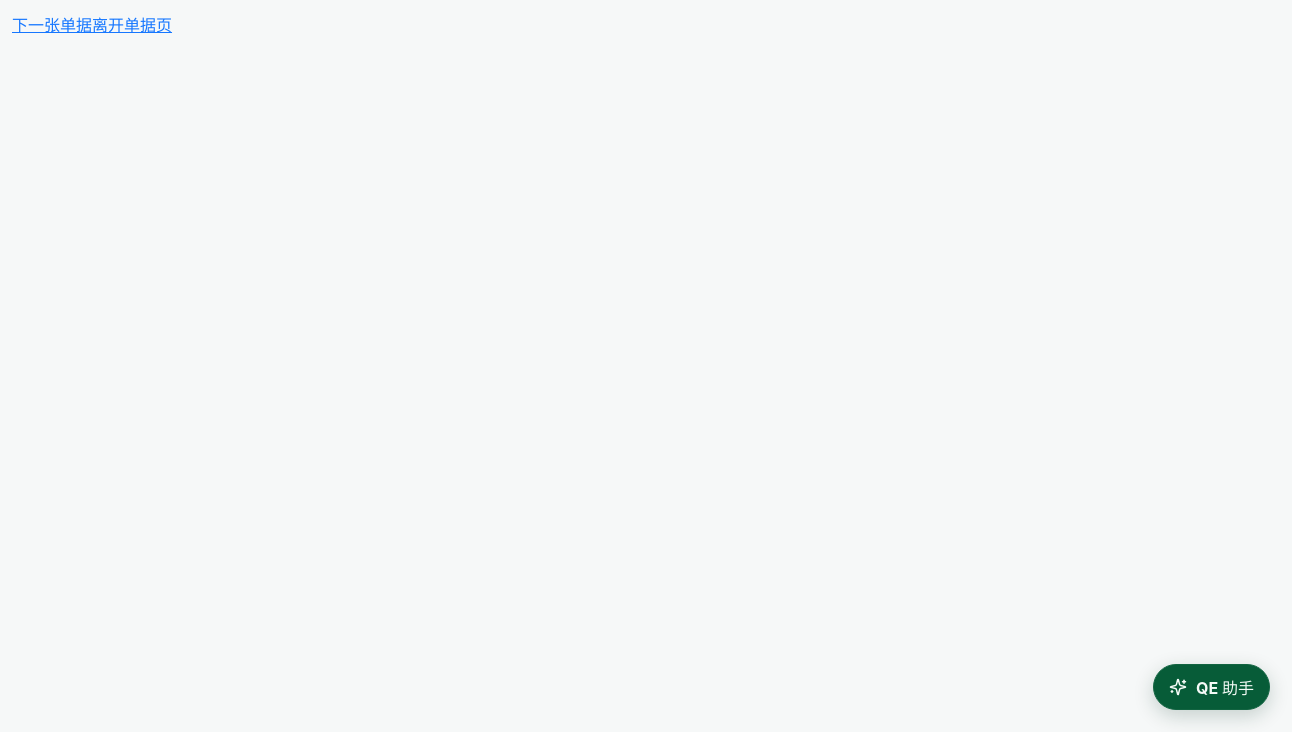
Scenario: QE 助手 › gives the model citable facts from the active detail page on first turn, reload and navigation
Later steps or results of the test are not shown.
Step 1. Click the button "QE 助手" → coordinates (1212, 687), box [1153,664,1270,710]
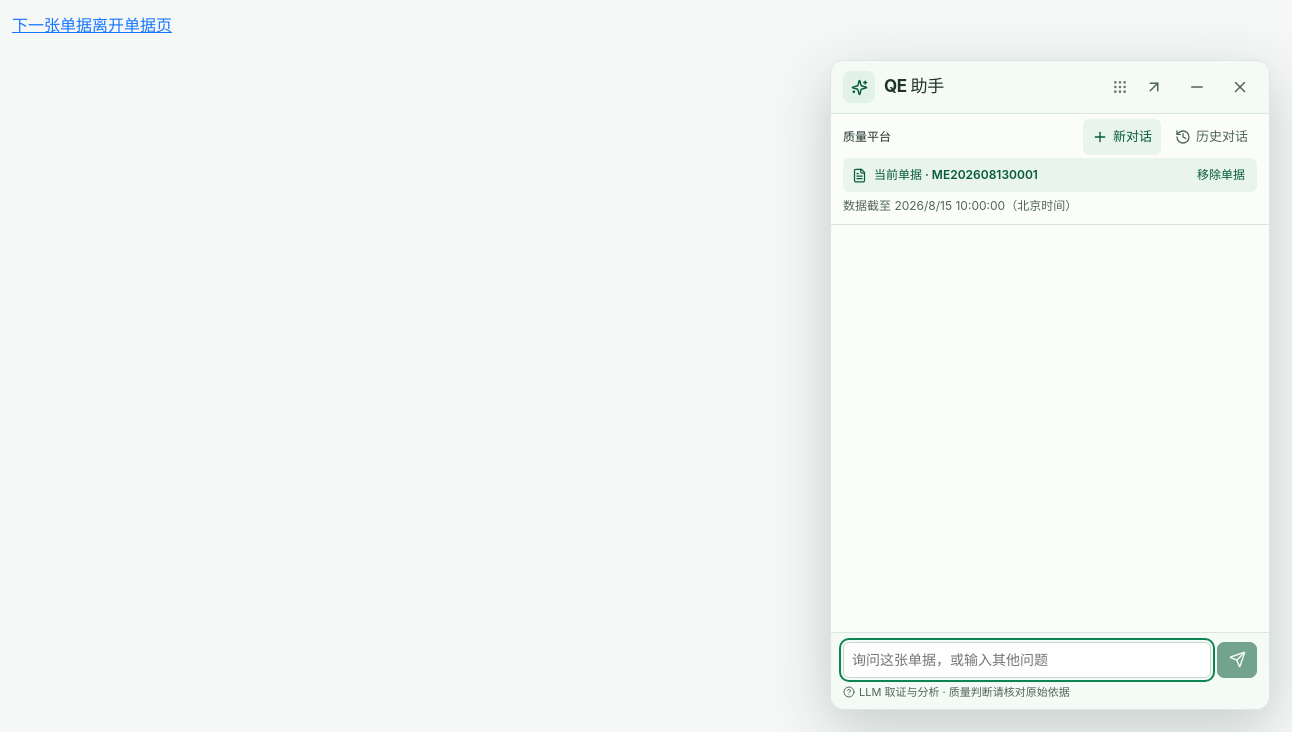
Step 2. Type "这张有多少件不良？" into the field named "向 QE 助手提问" → coordinates (1027, 660), box [843,642,1211,678]
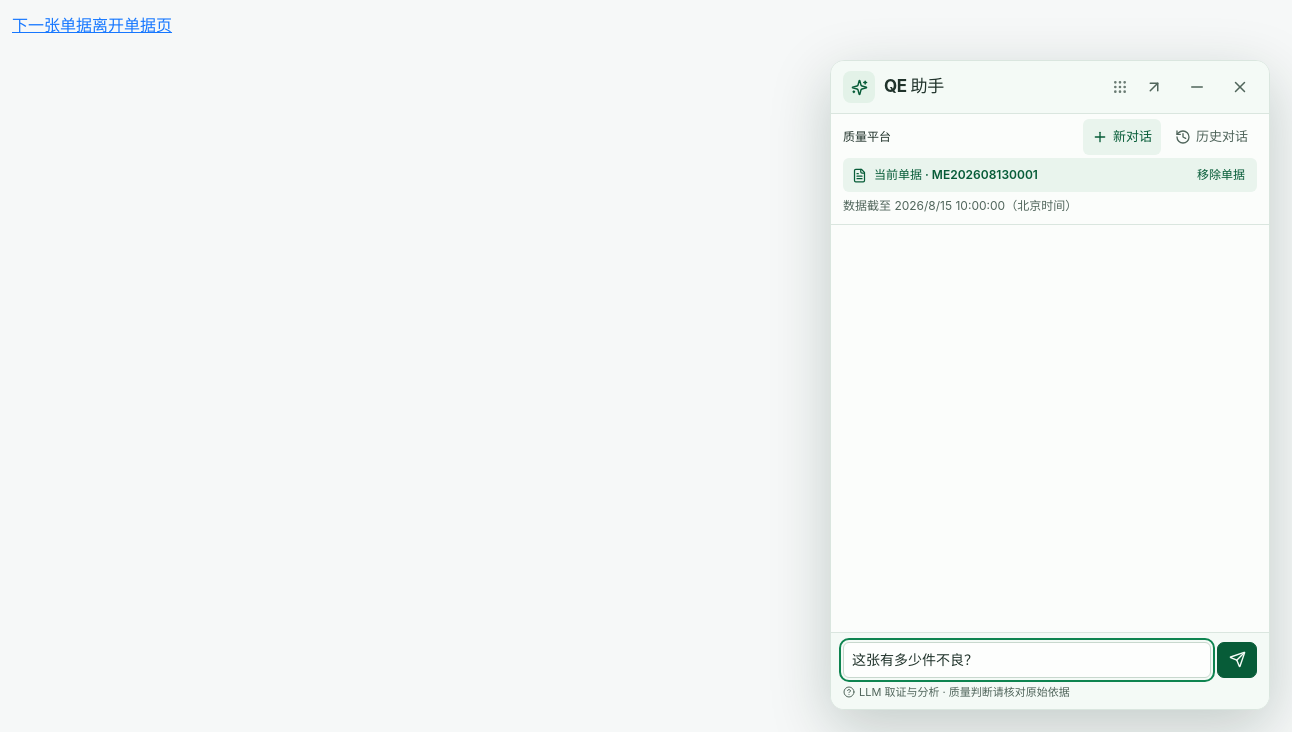
Step 3. Click the button named "发送问题" → coordinates (1237, 660), box [1217,642,1257,678]
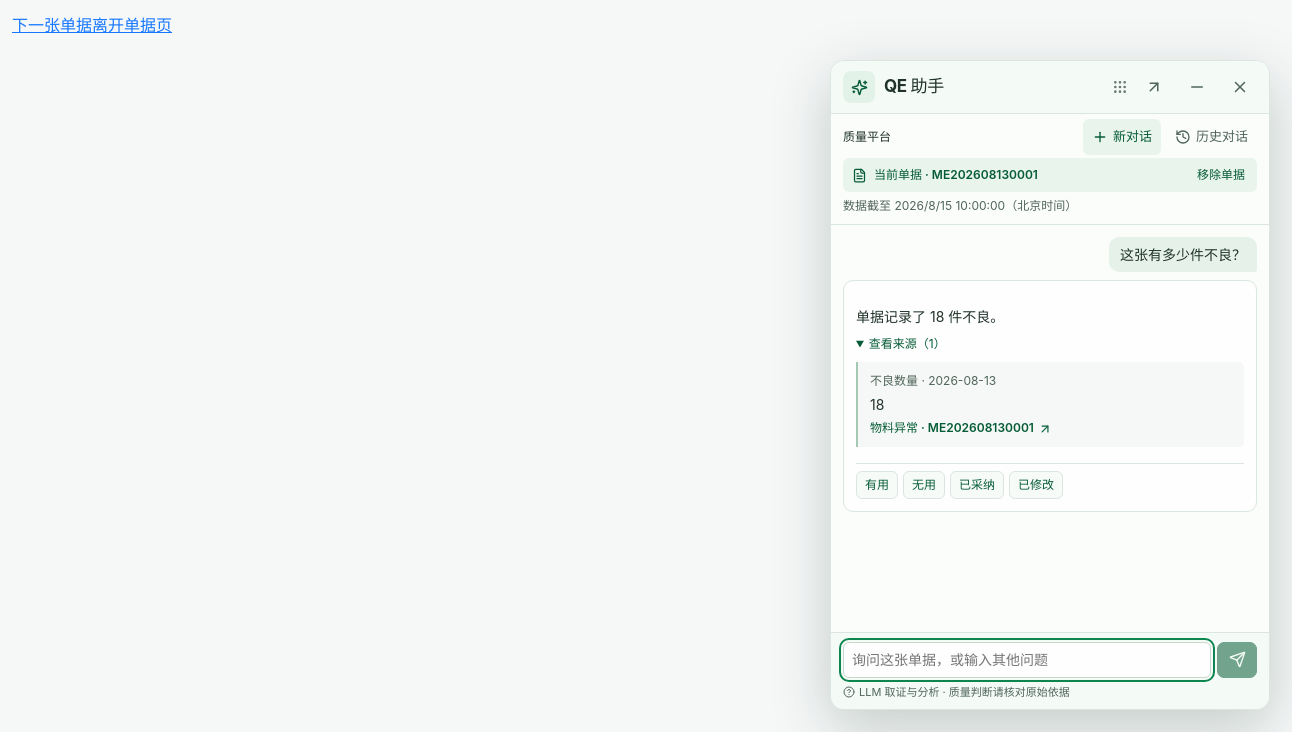
Check: the text "单据记录了 18 件不良。" is shown, box [856,308,1004,325]
